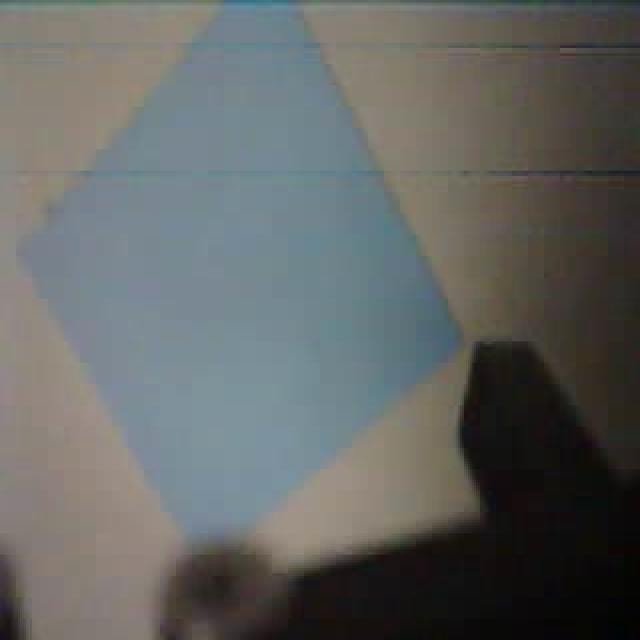blue_box: (16, 0, 468, 552)
